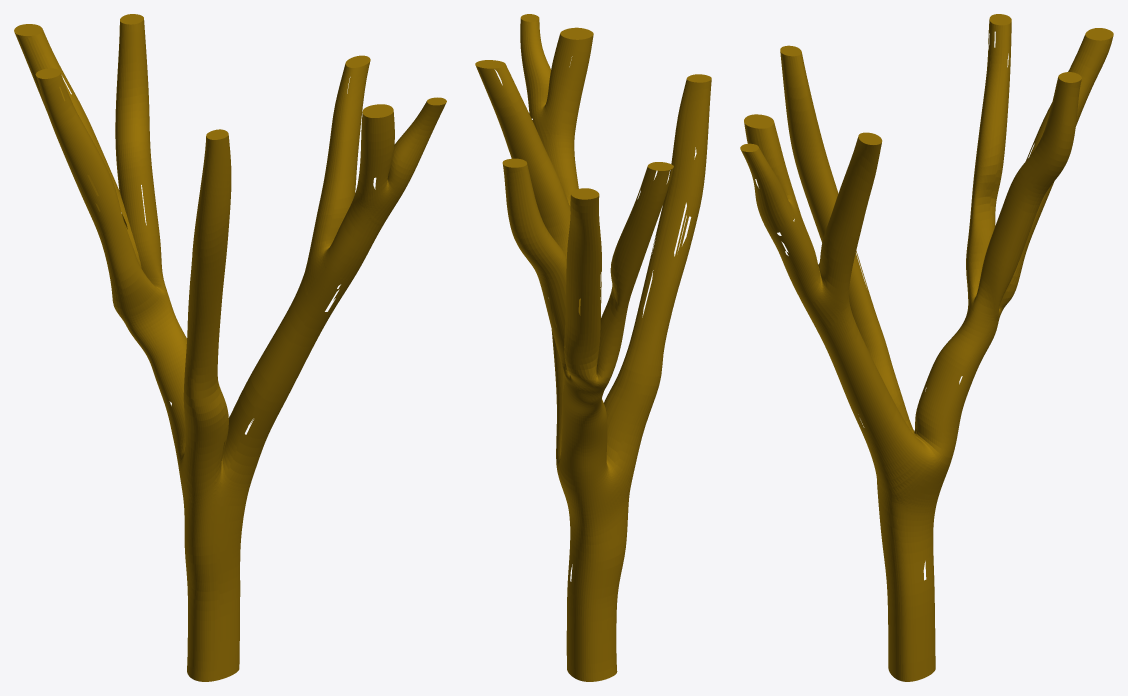
The model's file is 14_decorative.glb.
3 views of the same model, side by side, from view 1: azimuth 30°, elevation 25°; view 2: azimuth 150°, elevation 25°; view 3: azimuth 270°, elevation 25° (orthographic). The views are drawn at different scales.
Parts seen in each view (by area): view 1: root; view 2: root; view 3: root.
Part boxes in pixels (bbox=[...]): root: bbox=[14, 14, 446, 681]; root: bbox=[475, 14, 711, 681]; root: bbox=[740, 14, 1113, 681].
Size of the model in its own units: 1.83 by 3.66 by 2.09.
